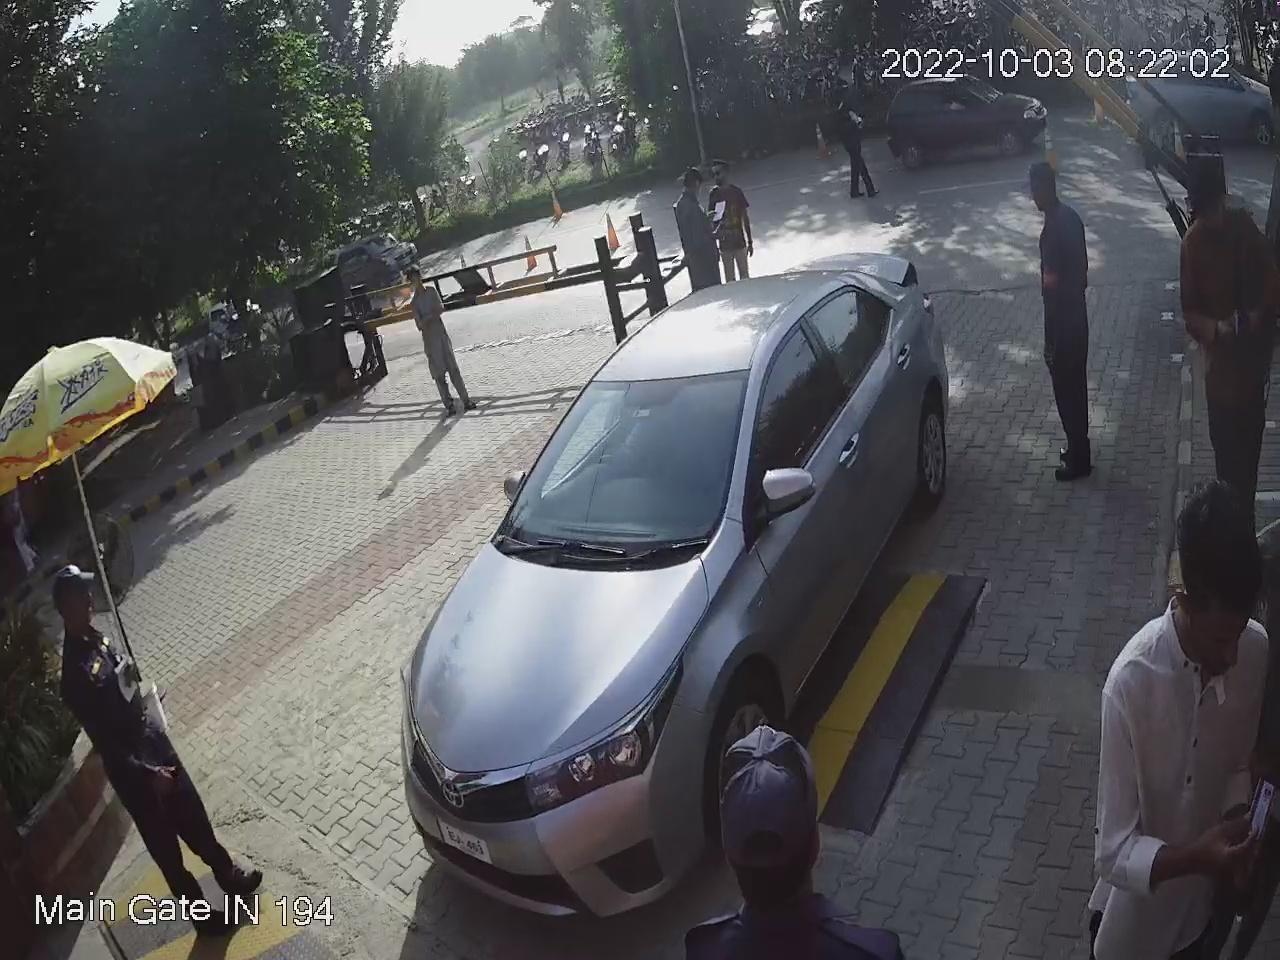windshield: (498, 365, 758, 550)
